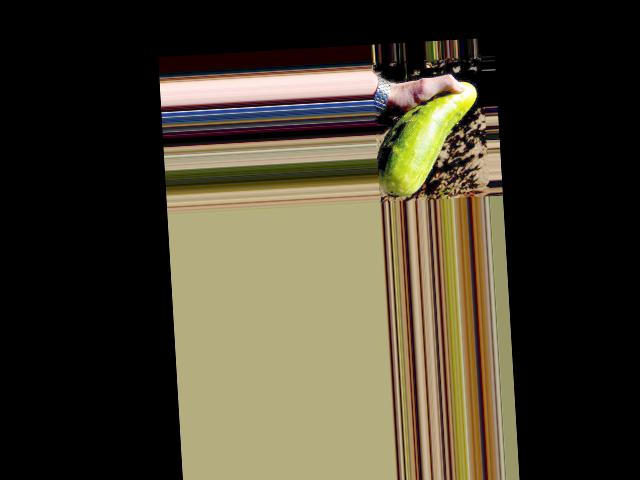cucumber: (372, 81, 482, 198)
